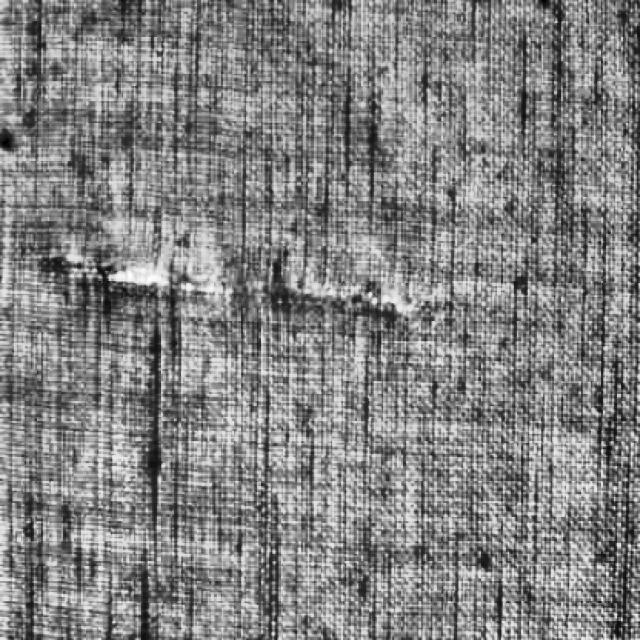thread_error: (27, 235, 428, 319)
